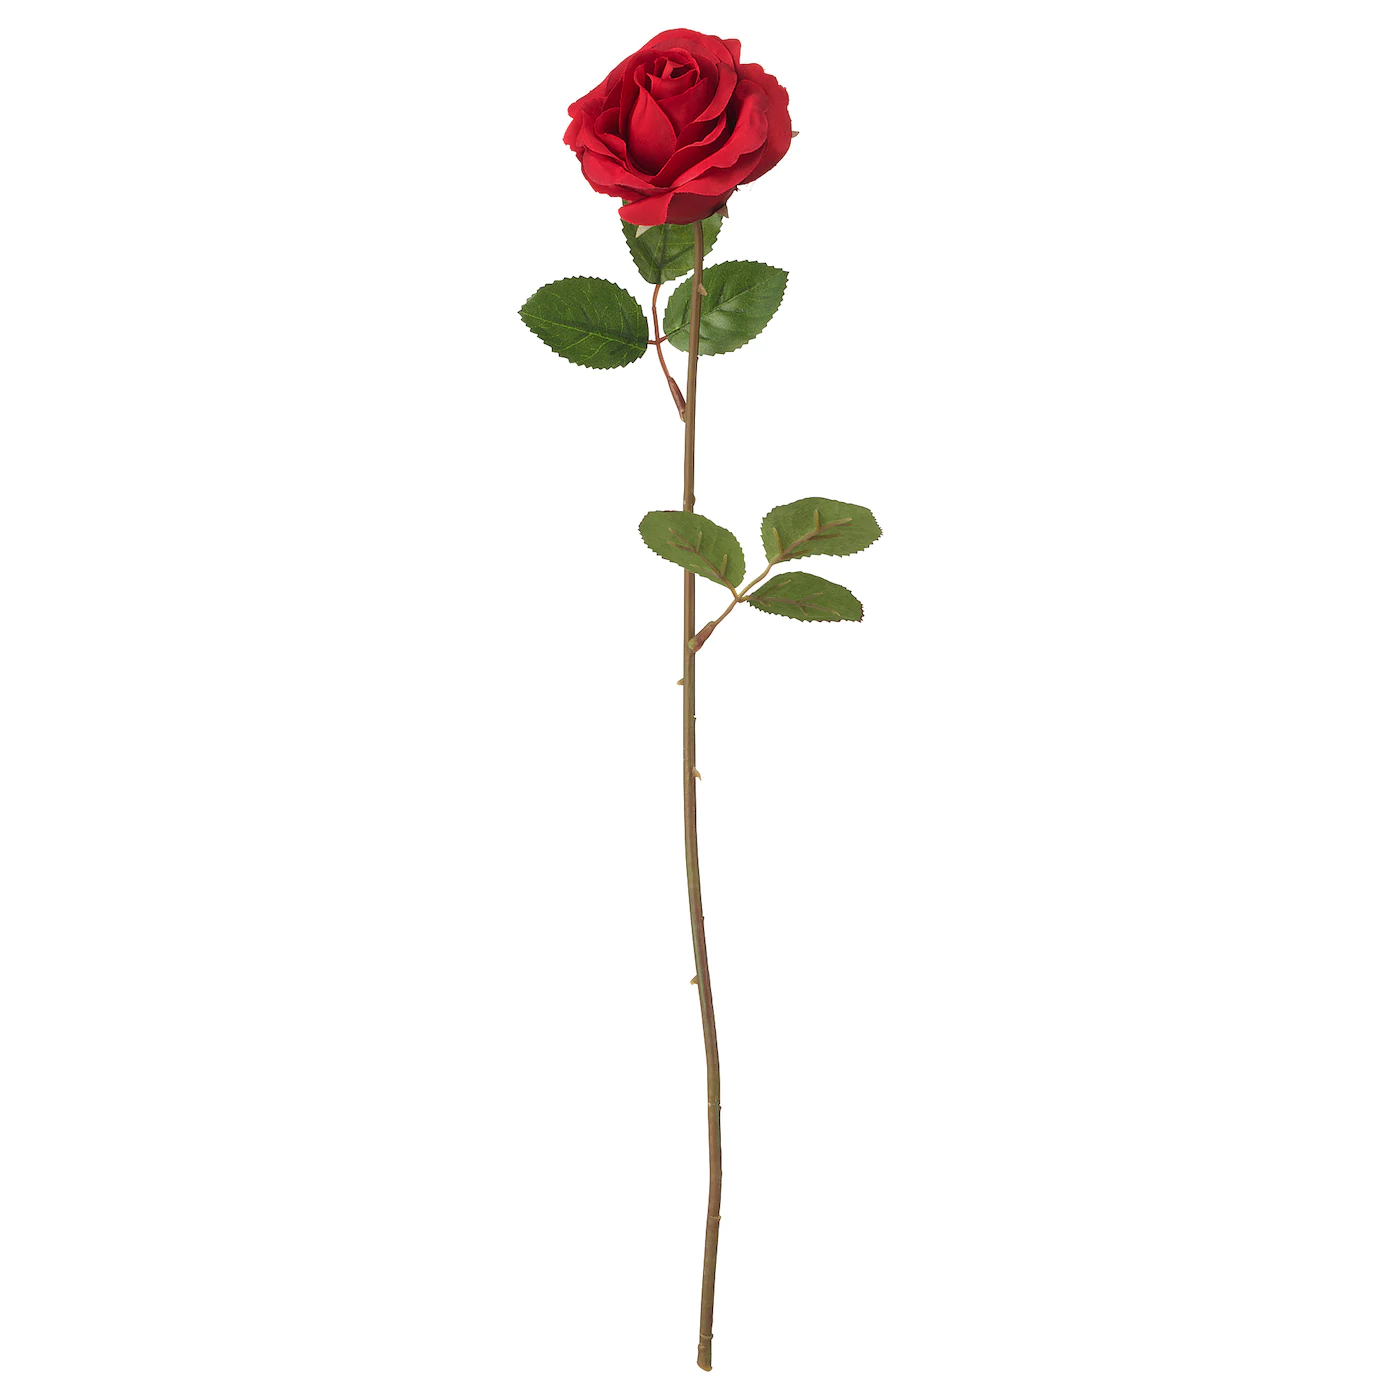rose: (531, 10, 836, 292)
